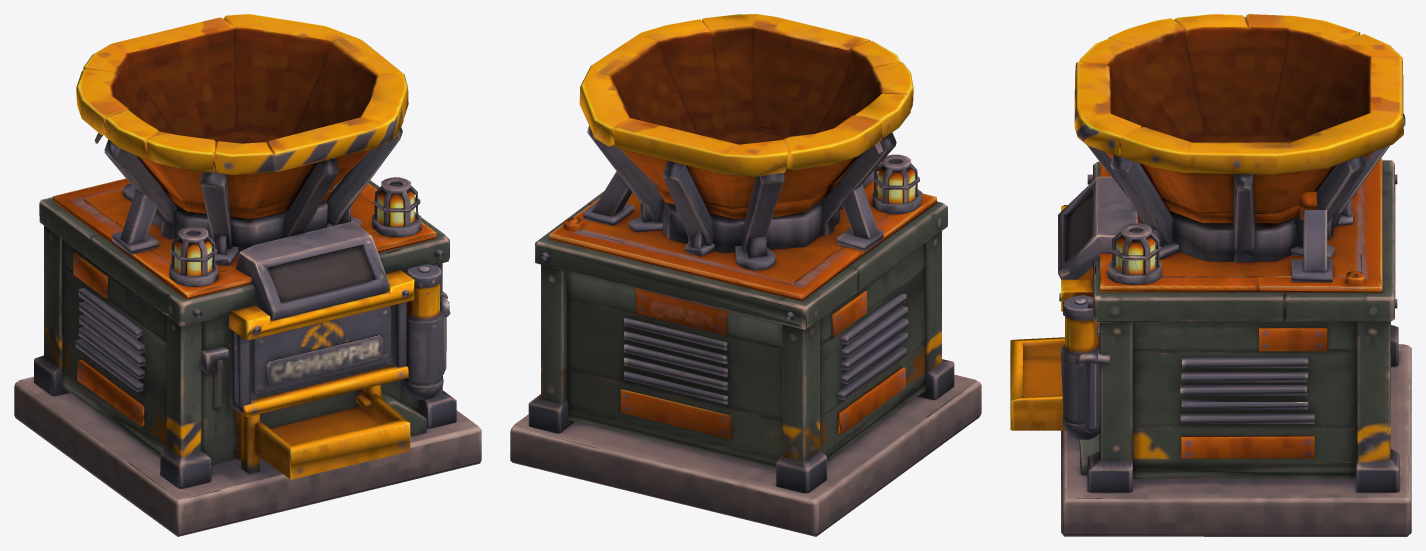
Rendered from WLD_QD_cash_hopper_t2.glb.
The picture shows the model from 3 angles, left to right: view 1: azimuth 30°, elevation 25°; view 2: azimuth 150°, elevation 25°; view 3: azimuth 270°, elevation 25°; orthographic projection. The views are drawn at different scales.
Visible parts, largest first — view 1: Body, Funnel, Tray; view 2: Body, Funnel; view 3: Body, Funnel, Tray.
Part boxes in pixels (bbox=[...]): Body: bbox=[14, 177, 481, 536]; Funnel: bbox=[76, 14, 408, 253]; Tray: bbox=[255, 389, 410, 479]; Body: bbox=[510, 154, 981, 536]; Funnel: bbox=[579, 14, 913, 253]; Body: bbox=[1058, 158, 1411, 536]; Funnel: bbox=[1074, 14, 1405, 262]; Tray: bbox=[1010, 337, 1065, 430].
Size of the model in its own units: 1.53 by 1.7 by 1.65.
Materials: 1 (1 with a texture image).
